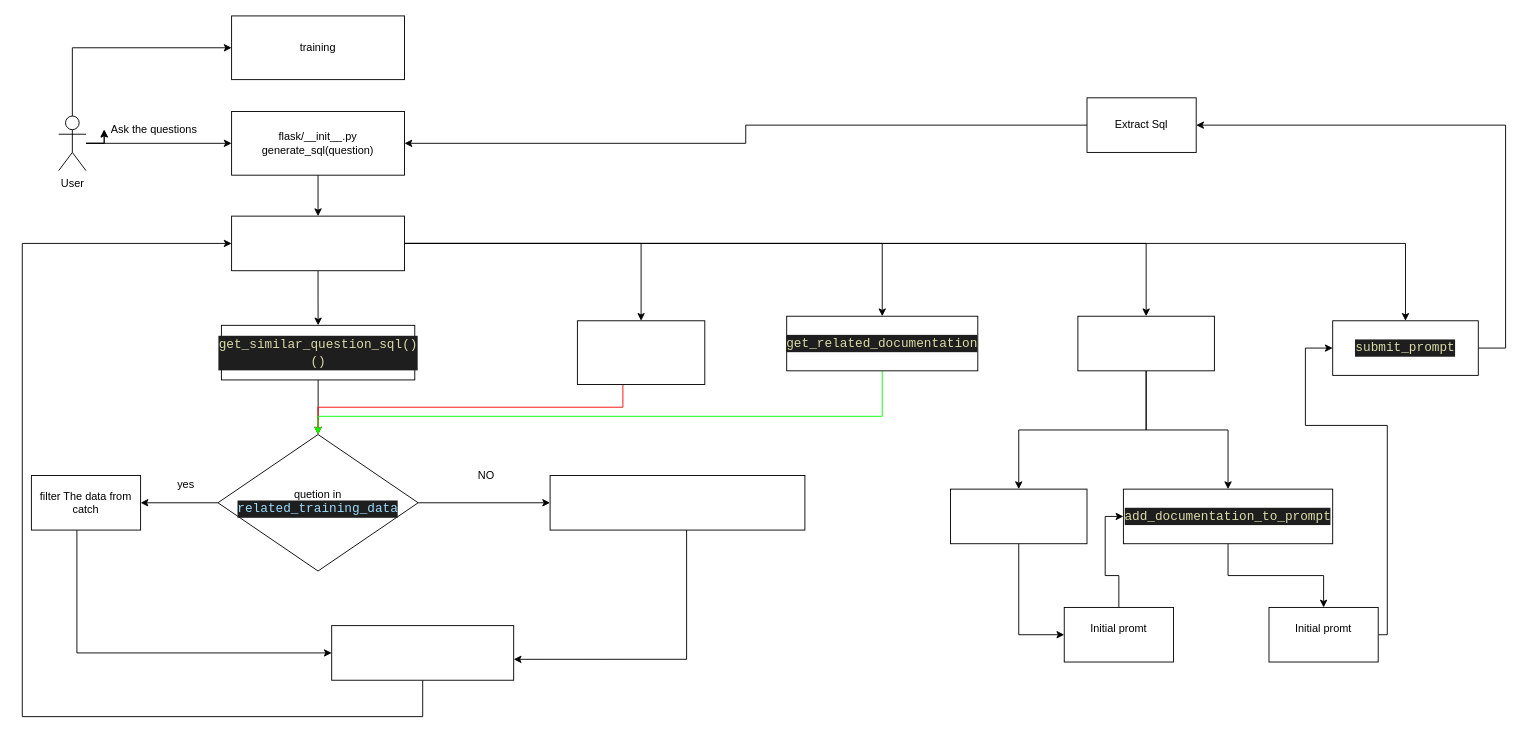
Image size: 1529x740. Some labels were removed from this diagram. Here are the shapes that lost their labels. From the top down, the centre of each, then its label:
At pixel 317 243: "model. generate_sql".
At pixel 640 352: "get_related_ddl".
At pixel 1145 343: "get_sql_prompt".
At pixel 677 502: "get_related_training_data_cached".
At pixel 1018 516: "add_ddl_to_prompt".
At pixel 422 652: "training_data . questions".
